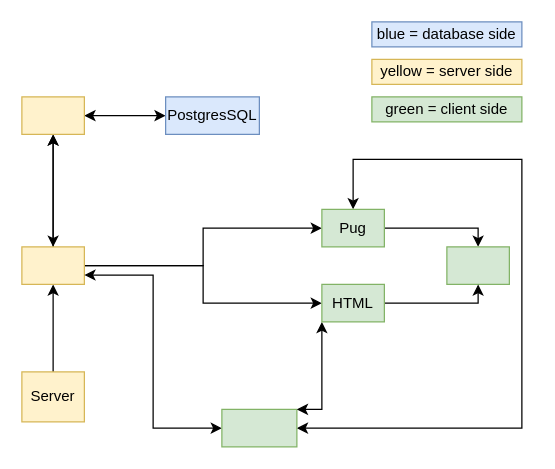
Image size: 555x469. Some labels were removed from this diagram. The centre of each missing label's shape, as x and y in pixels:
"Client Javascript" belongs at [259,427].
"CSS" belongs at [477,265].
"Queries" belongs at [52,115].
"Routers" belongs at [52,265].
